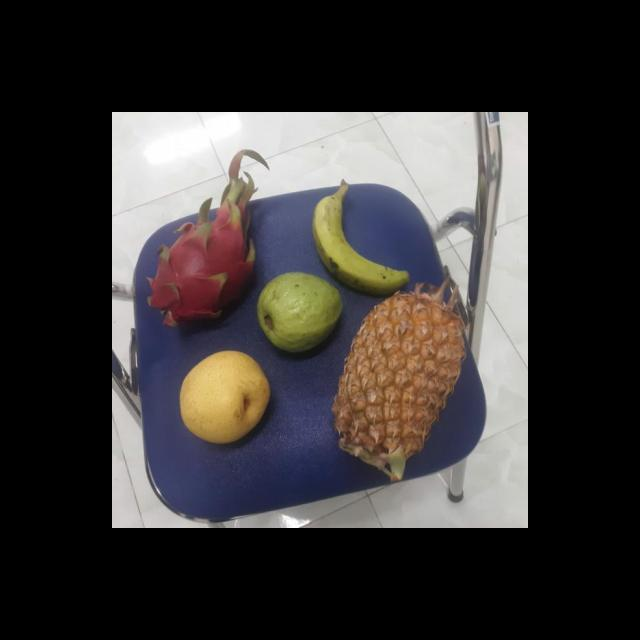banana: (310, 182, 410, 296)
guava: (258, 268, 346, 353)
pear: (180, 348, 274, 446)
pineapple: (336, 284, 474, 476)
pitaya: (150, 207, 259, 331)
